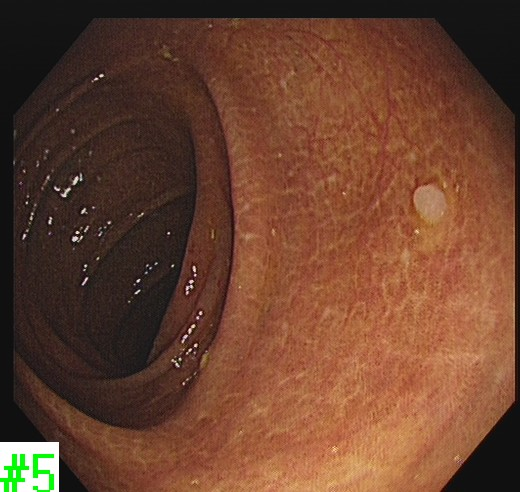adenoma: (410, 182, 450, 227)
